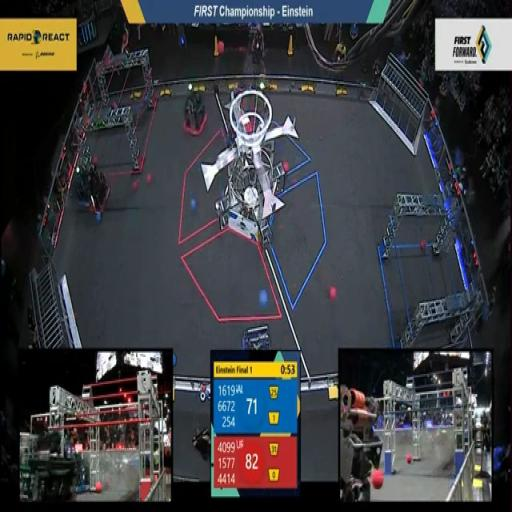robot: (87, 163, 120, 231), (65, 152, 101, 210), (180, 86, 210, 140), (239, 312, 275, 353)
